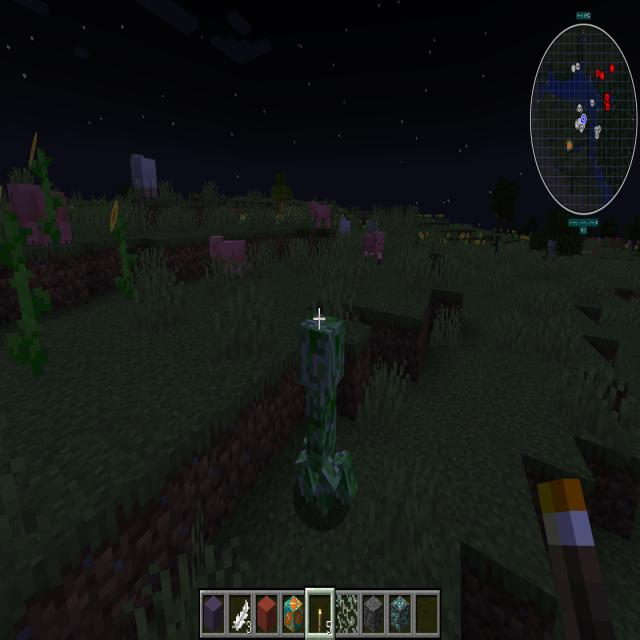Creeper: (286, 310, 368, 533)
pig: (4, 173, 88, 254), (204, 231, 256, 285), (360, 227, 388, 270), (306, 198, 334, 236)
